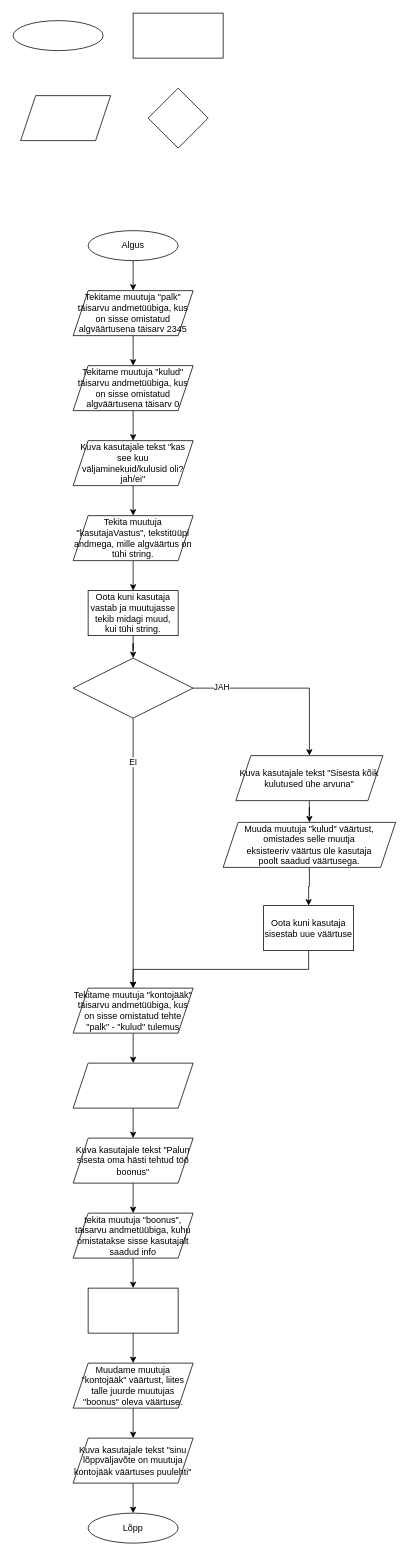
Image size: 409x1556. Some labels were removed from this diagram. Here are the shapes that lost their labels. From the top down, the centre of each, then its label:
pixel 57 35: Programmi algus
pixel 177 35: olek
pixel 65 118: tehakse midagi
pixel 177 117: otsus
pixel 132 687: Kas kasutaja sisestatud väärtus muutujasse "kasutajaVastus" on "jah"?
pixel 132 1085: Kuva kasutajale, muutuja "kontojääk" väärtus, koos tekstiga " puulehte on alles"
pixel 132 1310: Oota kuni kasutaja sisestab oma andmeid
